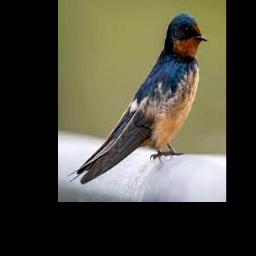Swallow: (68, 12, 207, 185)
